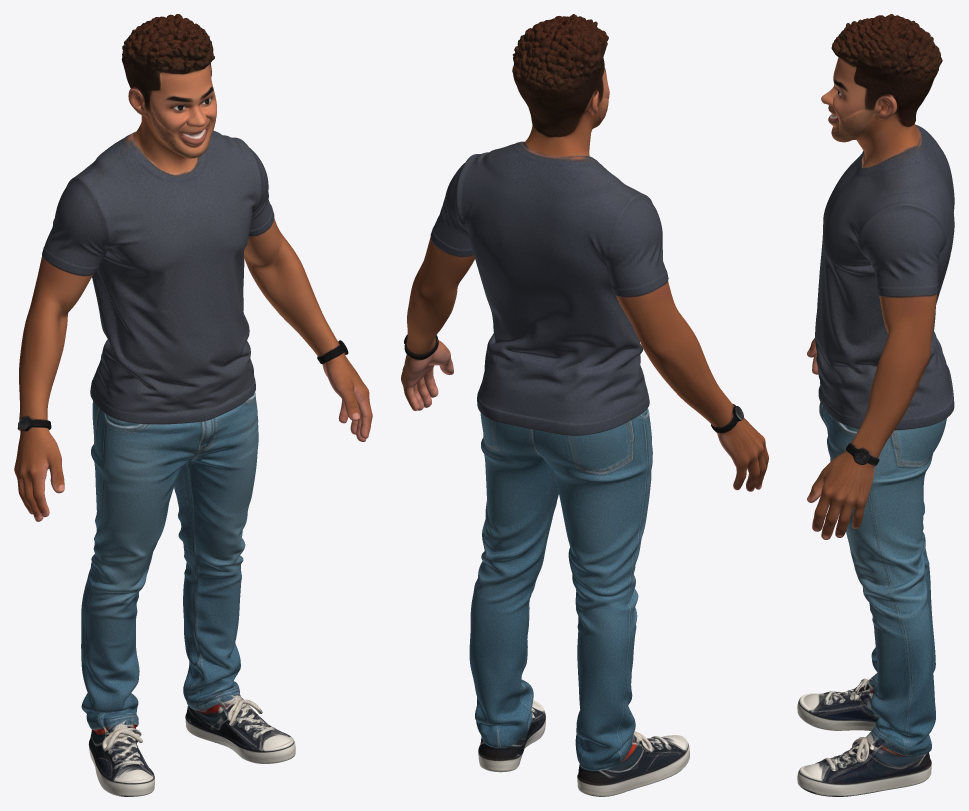
The model's file is employee-08.glb.
3 views of the same model, side by side, from view 1: azimuth 30°, elevation 25°; view 2: azimuth 150°, elevation 25°; view 3: azimuth 270°, elevation 25° (orthographic). The views are drawn at different scales.
Bounding box in the file's own units: 0.9419 × 1.9 × 0.3678.
Materials: 1 (1 with a texture image).
